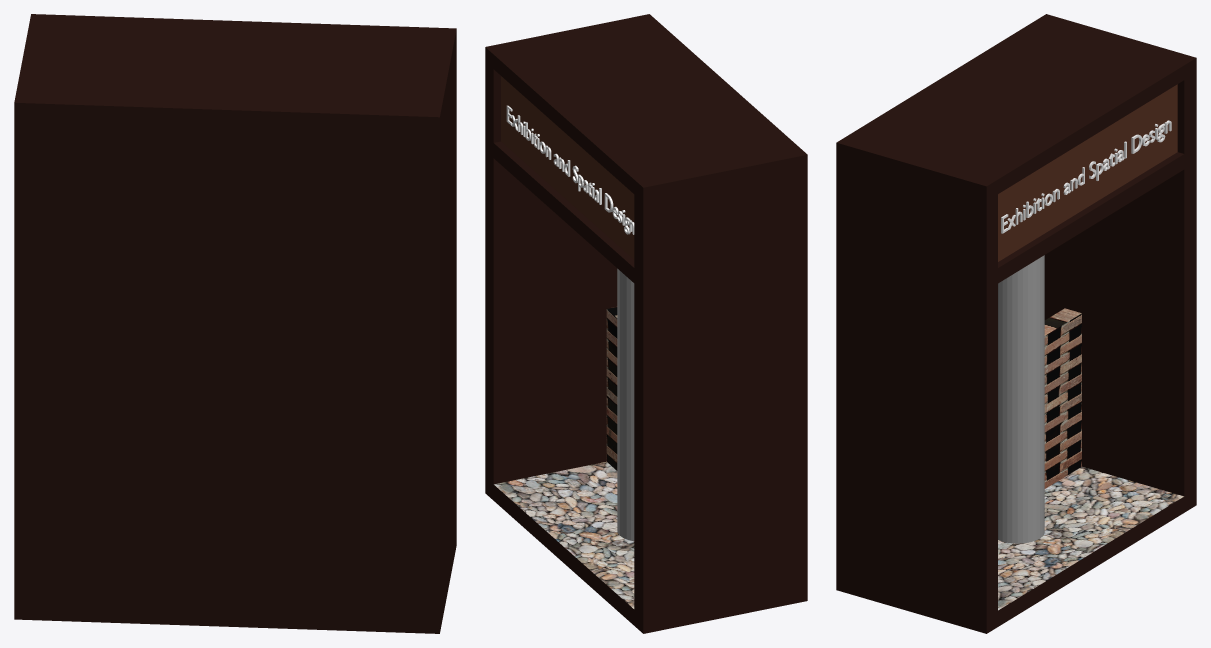
File: Exhibition kiosk.gltf
3 renders of one model, left to right at view 1: azimuth 30°, elevation 25°; view 2: azimuth 150°, elevation 25°; view 3: azimuth 270°, elevation 25°, orthographic. The views are drawn at different scales.
Parts seen in each view (by area): view 1: Cube.002; view 2: Cube.002; view 3: Cube.002.
Part boxes in pixels (x1=…): Cube.002: x1=14, y1=14, x2=456, y2=633; Cube.002: x1=485, y1=14, x2=807, y2=633; Cube.002: x1=836, y1=14, x2=1196, y2=633.
Size of the model in its own units: 1.03 by 1.25 by 0.9098.
6 materials, 2 textured.
